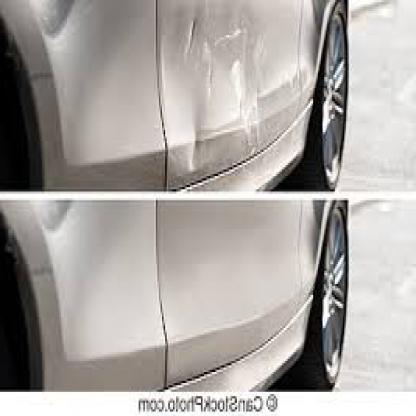dent: (180, 6, 302, 160), (206, 132, 210, 134)
